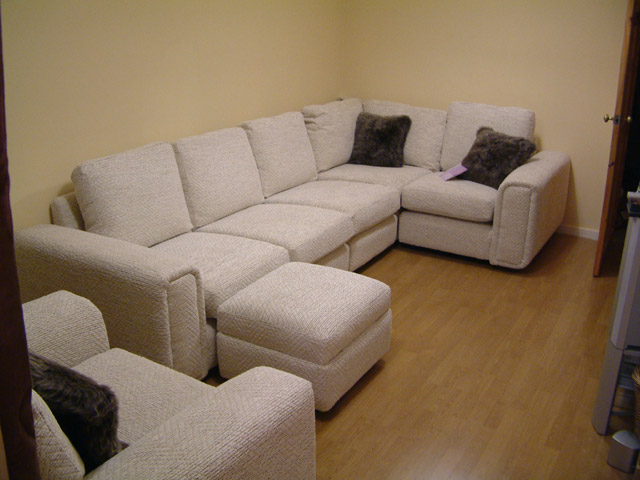sofa: (18, 99, 586, 477)
